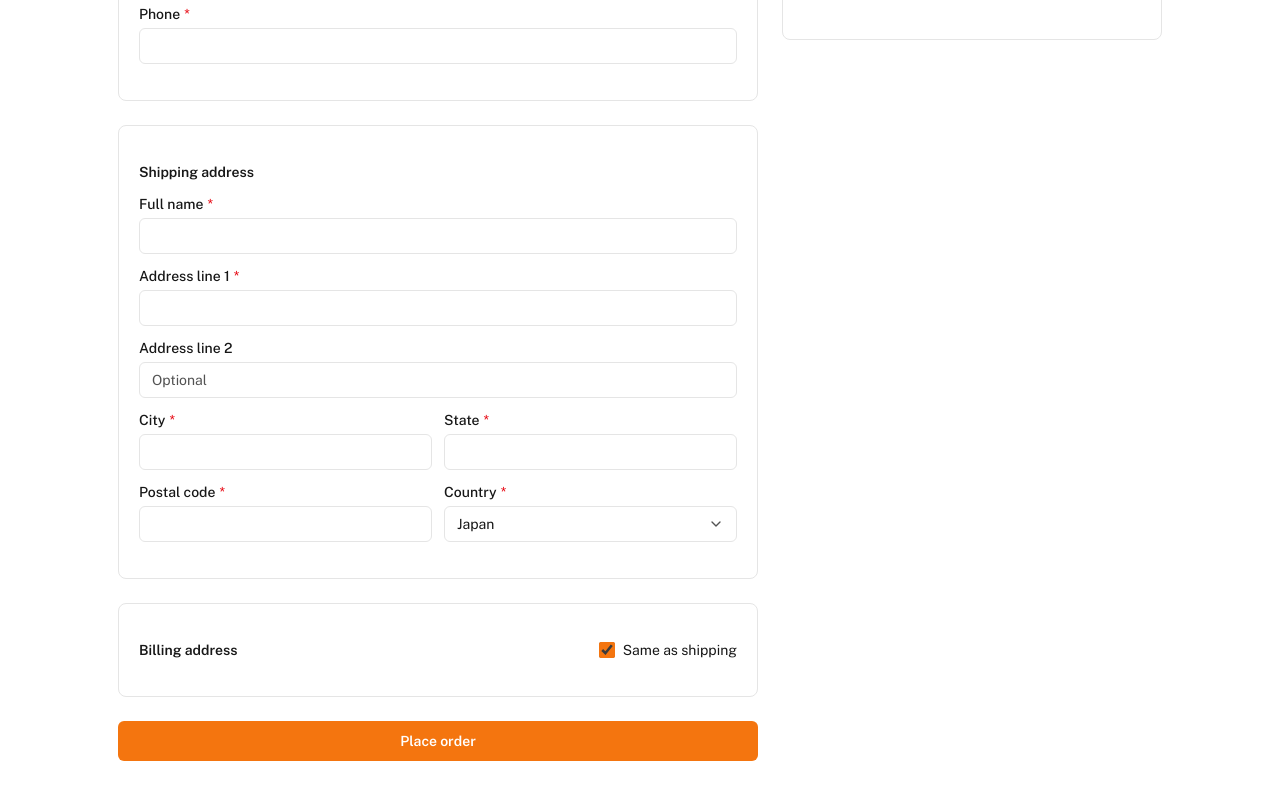
Test: checkout autofill › does not apply the delivery country to the billing address
(page scrolled)
Click the checkbox labelled "Same as shipping" at (607, 650), box [599,642,615,658]
(page scrolled)
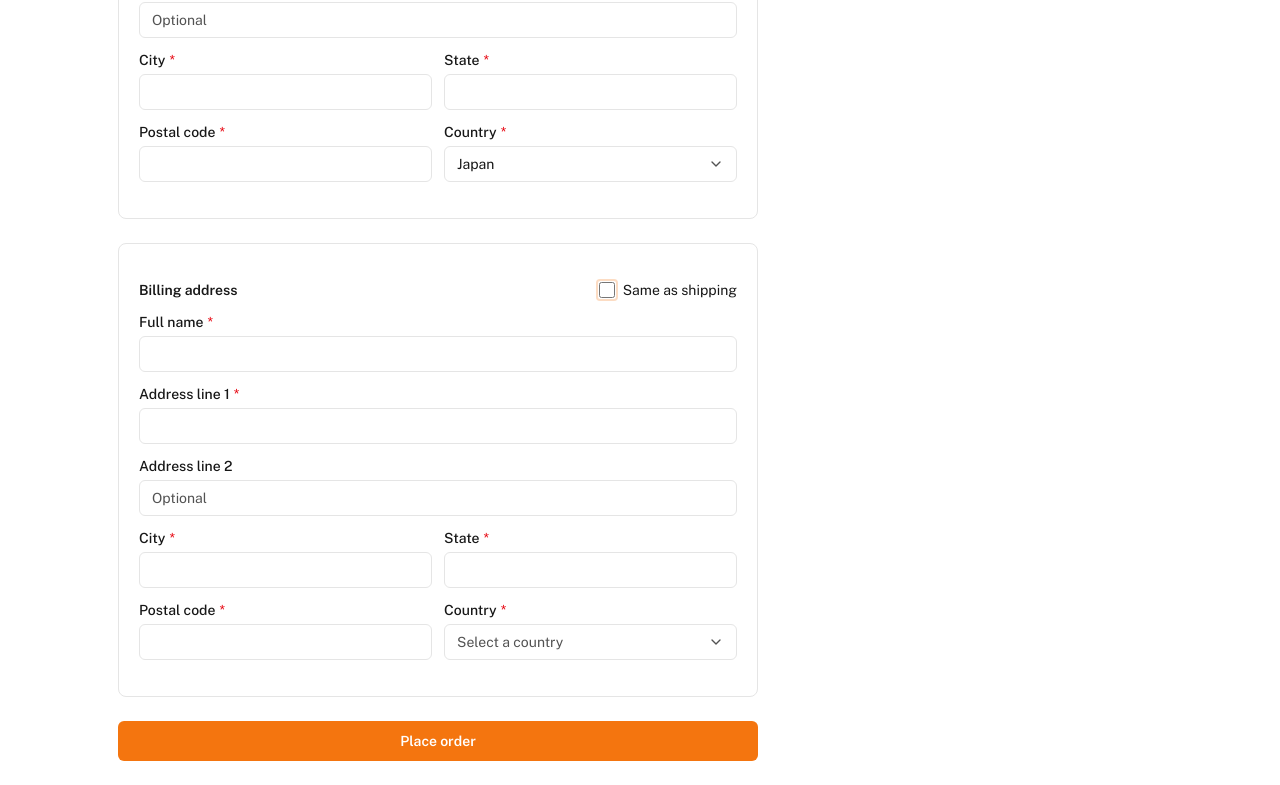
expect the dropdown named "Country" reads "Japan": met, box [444,146,737,182]
expect the dropdown labelled "country" reads "Select a country": met, box [444,624,737,660]
